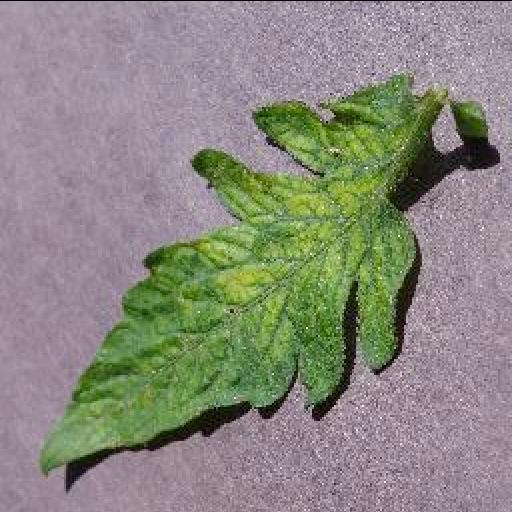disease_tomato: (36, 68, 442, 482)
